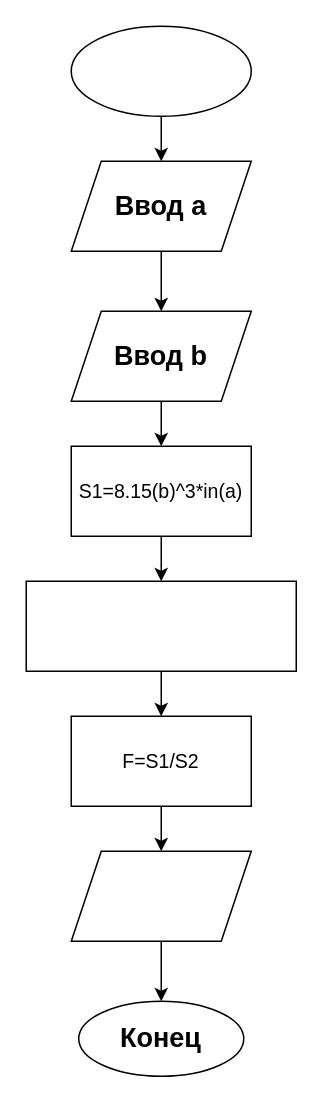
Image size: 323x1103. Some labels were removed from this diagram. The shapes that lost their labels are listed below. From the top down, each one's centre as x and y in pixels, then its label:
At point 160,70: "Начало".
At point 160,625: "S2=24.38*cos(b)(e^a*a^a)".
At point 160,895: "Вывод F".
